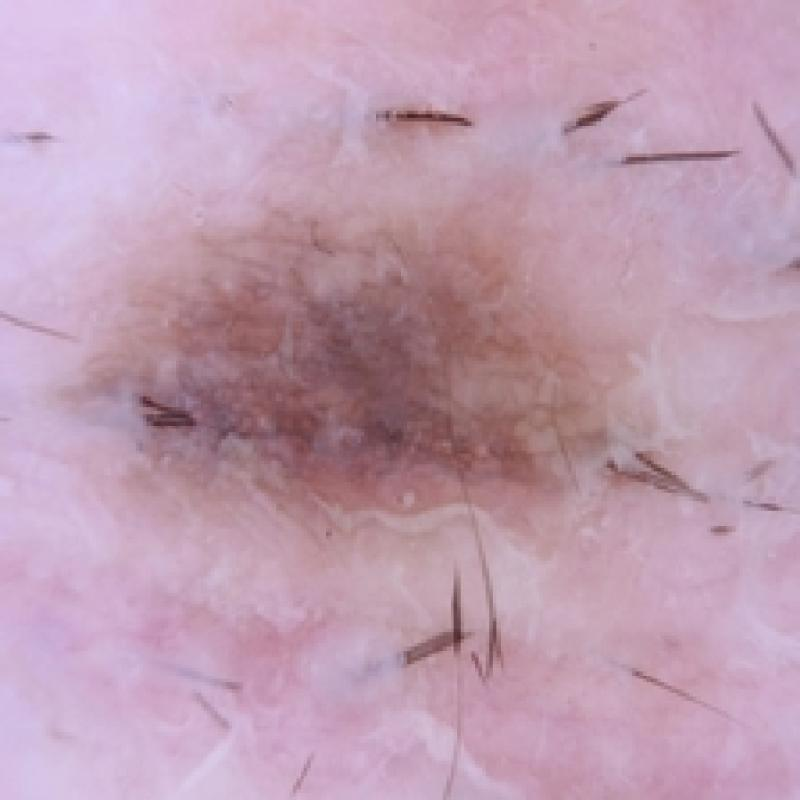benign: (54, 153, 711, 583)
